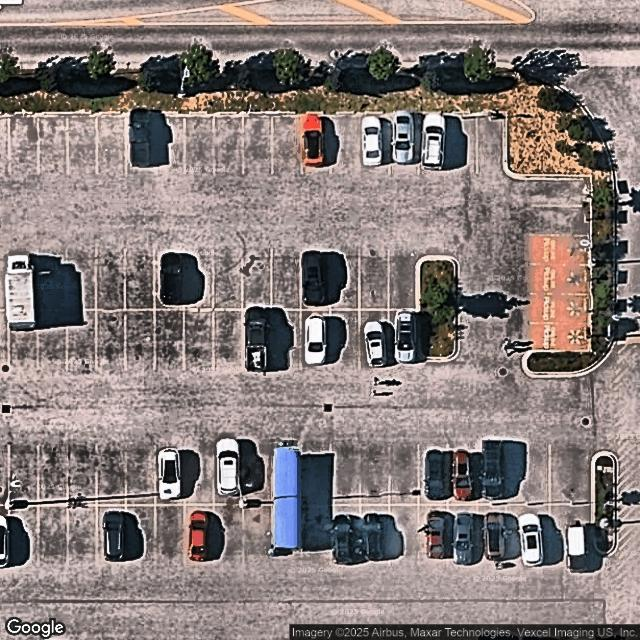car: (3, 250, 36, 330), (479, 440, 508, 500), (244, 305, 269, 374), (419, 111, 447, 169), (300, 249, 327, 305), (299, 111, 325, 168), (155, 447, 182, 501), (215, 439, 240, 497), (129, 110, 153, 169), (159, 251, 185, 305), (359, 112, 384, 167), (517, 514, 543, 566), (391, 110, 415, 166), (185, 512, 211, 563), (452, 511, 476, 566), (425, 509, 450, 561), (393, 309, 416, 365), (333, 514, 358, 565), (452, 449, 476, 502), (424, 447, 447, 501), (564, 523, 588, 574), (103, 509, 125, 564), (362, 512, 386, 562), (304, 314, 327, 366), (482, 510, 505, 562), (363, 320, 387, 367)
lot_boundary: (0, 113, 595, 639)
objects: (530, 232, 589, 349), (418, 256, 457, 360)
stall: (507, 503, 550, 561), (507, 447, 550, 504), (549, 504, 592, 561), (550, 447, 590, 504), (419, 449, 449, 506), (185, 115, 215, 171), (39, 116, 69, 172), (331, 116, 361, 172), (303, 116, 333, 172), (274, 116, 304, 172), (65, 253, 95, 309), (419, 116, 449, 172), (390, 117, 420, 173), (449, 116, 479, 172), (241, 254, 271, 310), (183, 253, 213, 309), (155, 253, 185, 309), (125, 253, 155, 309), (7, 310, 37, 366), (35, 253, 65, 309), (359, 254, 389, 310), (213, 310, 243, 366), (154, 310, 184, 366), (125, 310, 155, 366), (65, 309, 95, 365), (329, 310, 359, 366), (244, 310, 274, 366), (125, 450, 155, 506), (38, 449, 68, 505), (359, 309, 389, 365), (67, 506, 97, 562), (8, 506, 38, 562), (241, 450, 271, 506), (214, 450, 244, 506), (184, 449, 214, 505), (300, 449, 330, 505), (243, 507, 273, 563), (212, 506, 242, 562), (155, 505, 185, 561), (389, 449, 419, 505), (360, 505, 390, 561), (360, 449, 390, 505), (330, 449, 360, 505), (303, 504, 333, 560), (451, 448, 481, 504), (450, 505, 480, 561), (420, 505, 450, 561), (214, 116, 244, 171), (155, 115, 185, 170), (127, 116, 157, 171), (97, 116, 127, 171), (67, 117, 97, 172), (9, 116, 39, 171), (360, 117, 390, 172), (245, 116, 275, 171), (95, 253, 125, 308), (330, 254, 360, 309), (301, 254, 331, 309), (271, 254, 301, 309), (212, 254, 242, 309), (36, 310, 66, 365), (5, 255, 35, 310), (184, 311, 214, 366), (95, 310, 125, 365), (301, 311, 331, 366), (271, 311, 301, 366), (97, 450, 127, 505), (8, 449, 38, 504), (67, 450, 97, 505), (97, 506, 127, 561), (38, 506, 68, 561), (185, 506, 215, 561), (389, 506, 419, 561), (331, 505, 361, 560), (388, 254, 416, 310), (388, 310, 416, 366), (156, 450, 184, 505), (127, 506, 155, 561), (530, 205, 587, 232), (481, 448, 508, 503), (481, 505, 507, 562), (531, 179, 588, 205), (478, 117, 505, 171)
